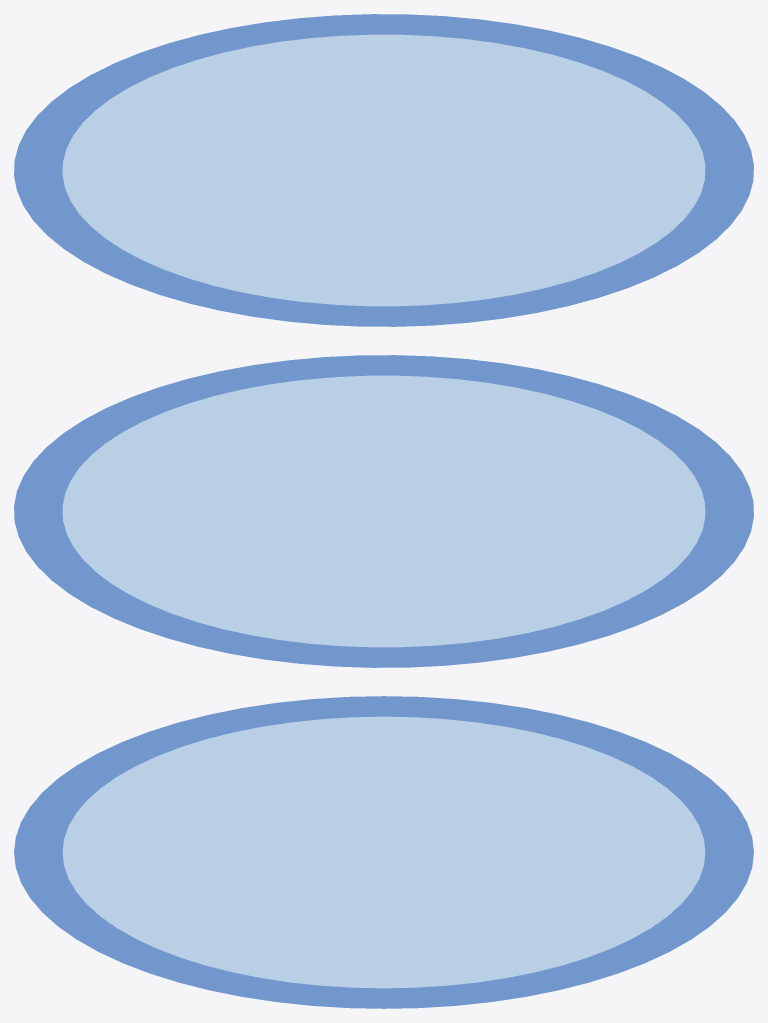
File: RotateGizmoGeom.fbx
3 views of the same model, one above another, from view 1: azimuth 30°, elevation 25°; view 2: azimuth 150°, elevation 25°; view 3: azimuth 270°, elevation 25° (orthographic).
Visible parts, largest first — view 1: Circle; view 2: Circle; view 3: Circle.
Part boxes in pixels (<box>): Circle: <box>14,14,753,326</box>; Circle: <box>14,355,753,667</box>; Circle: <box>14,696,753,1008</box>.
Size of the model in its own units: 230 by 3.75e-05 by 230.
